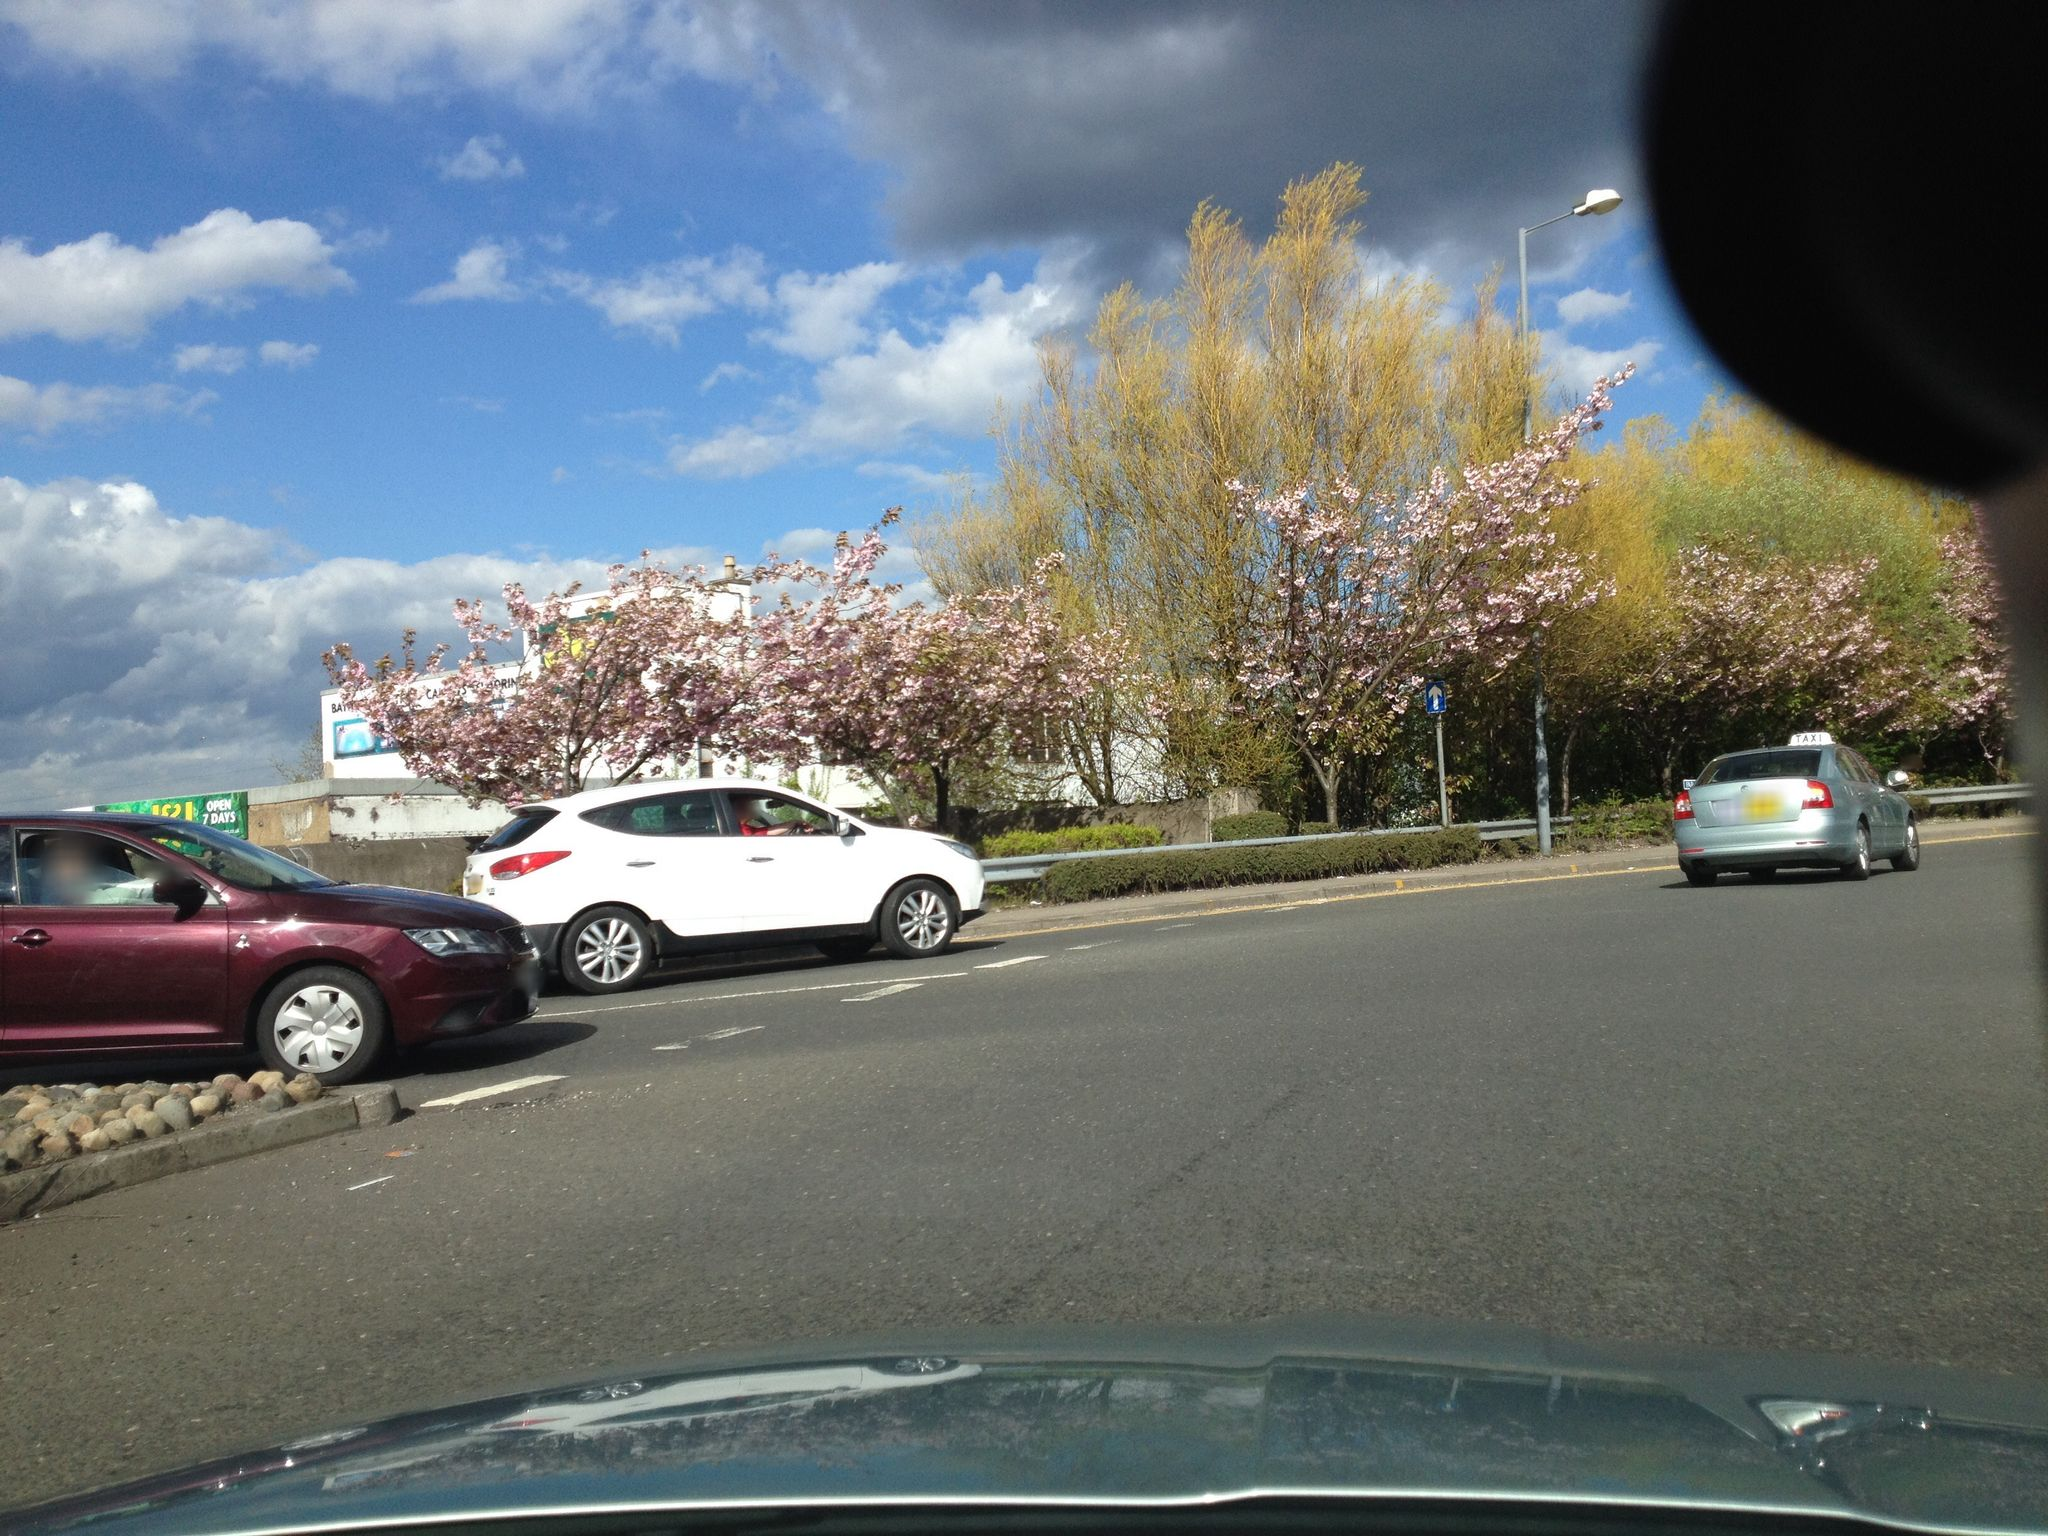car: (0, 808, 543, 1089), (461, 776, 990, 986), (1672, 731, 1922, 881)
